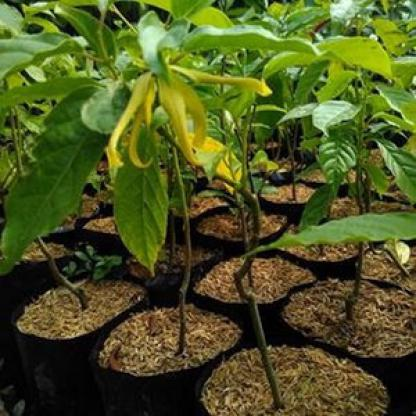Kenanga: (115, 51, 244, 156)
